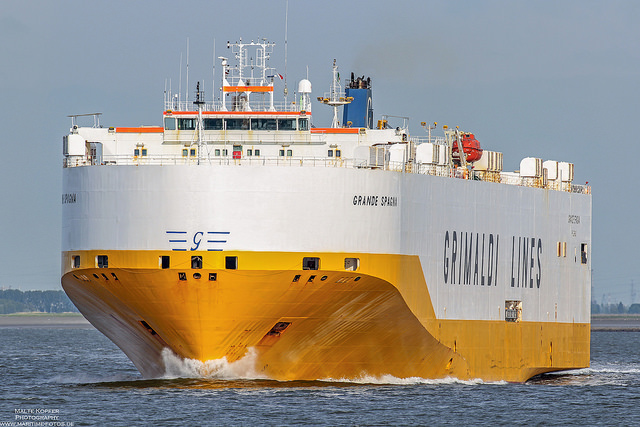PCC: (56, 52, 606, 386)
